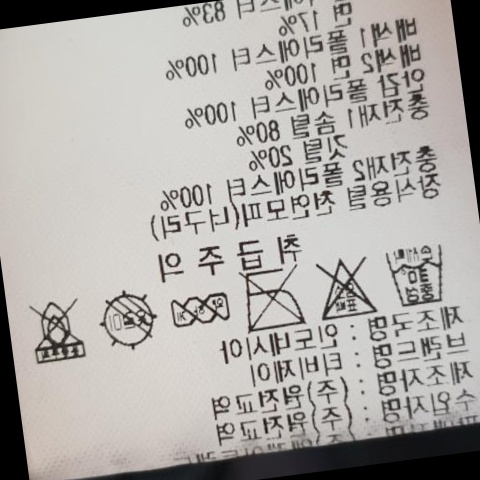DN_iron: (237, 264, 309, 336)
hand_wash: (379, 239, 449, 312)
line_dry_in_shade: (93, 287, 158, 354)
non_chlorine_bleach: (306, 245, 378, 324)
wring: (162, 286, 232, 332)
